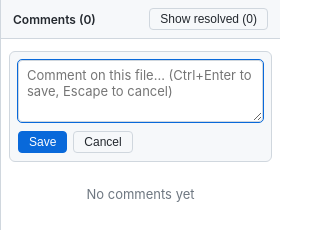
Test: CommentsPanel — file-level comment entry (iter 5 group B) › CommentError 'outside-workspace' marks the tab read-only and surfaces a workspace banner
Type "note" into the text box at (140, 91), box [18,60,263,122]
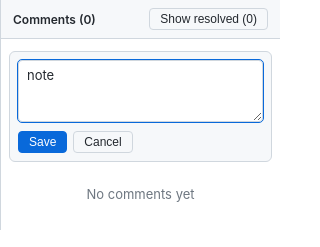
Click the button "Save" at (43, 142), box [18,131,67,153]
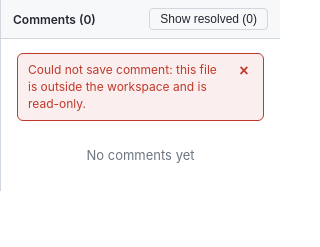
Now the message shows "outside the workspace", box [28,62,217,111]
